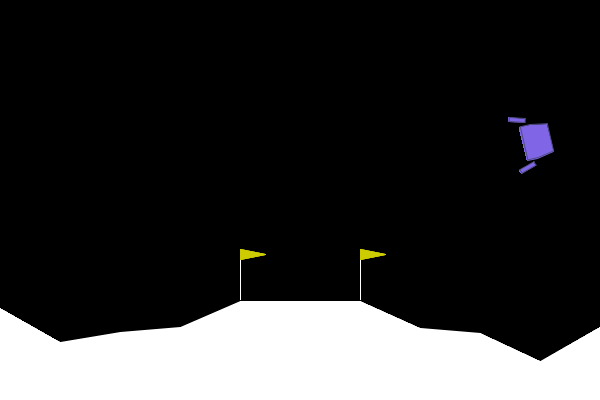lander: (506, 108, 559, 175)
